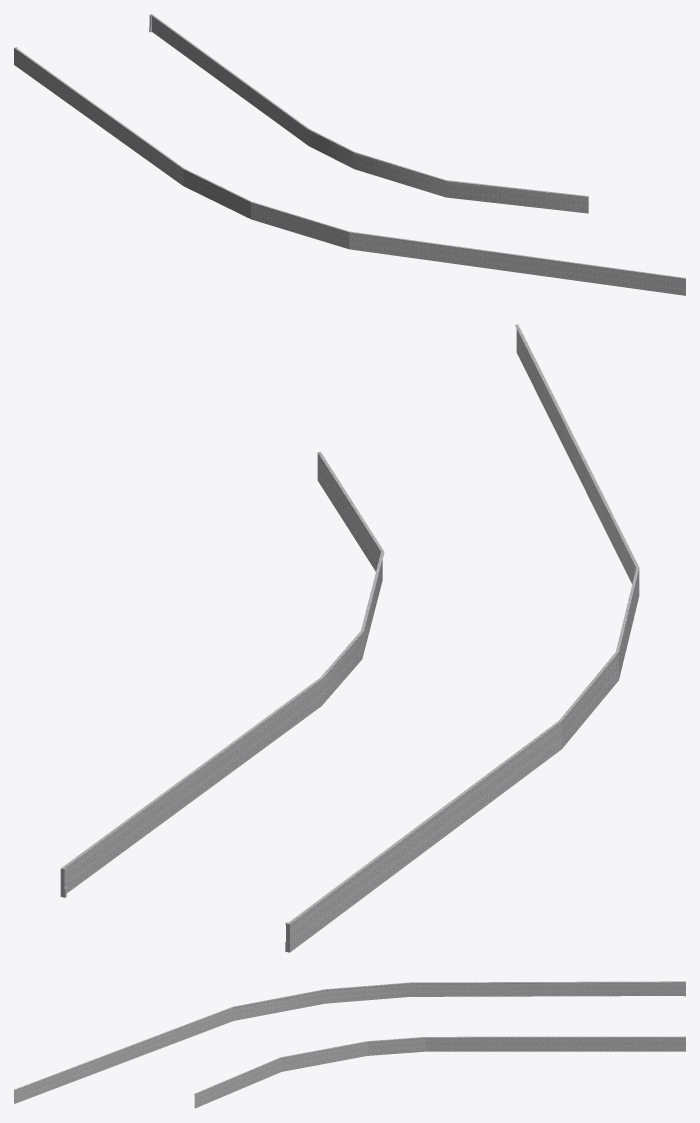
File: SideWall_A_002.fbx
3 views of the same model, one above another, from view 1: azimuth 30°, elevation 25°; view 2: azimuth 150°, elevation 25°; view 3: azimuth 270°, elevation 25° (orthographic). The views are drawn at different scales.
Parts seen in each view (by area): view 1: SideWall_A_002; view 2: SideWall_A_002; view 3: SideWall_A_002.
Part boxes in pixels (x1=…): SideWall_A_002: x1=14, y1=14, x2=685, y2=295; SideWall_A_002: x1=60, y1=324, x2=639, y2=952; SideWall_A_002: x1=14, y1=981, x2=685, y2=1108.
Bounding box in the file's own units: 9007 × 527 × 22636.
2 materials, 2 textured.
